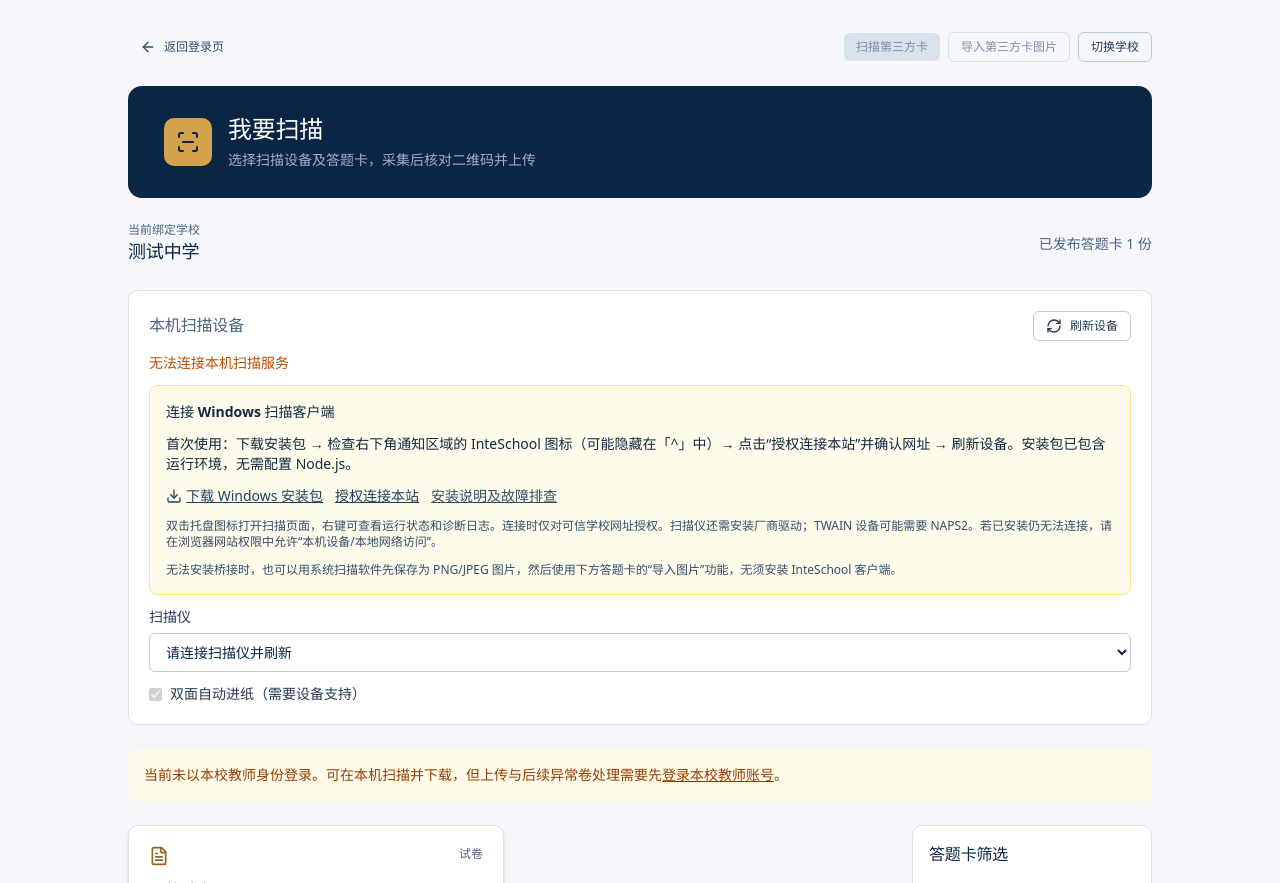
Test: ScannerPage › offers Windows installer and explicit site pairing only when the bridge is unavailable
What coordinates should you click on to do the following:
click the button "刷新设备"
I would click on:
 (1082, 326)
Its box is x1=1033 y1=311 x2=1131 y2=341.
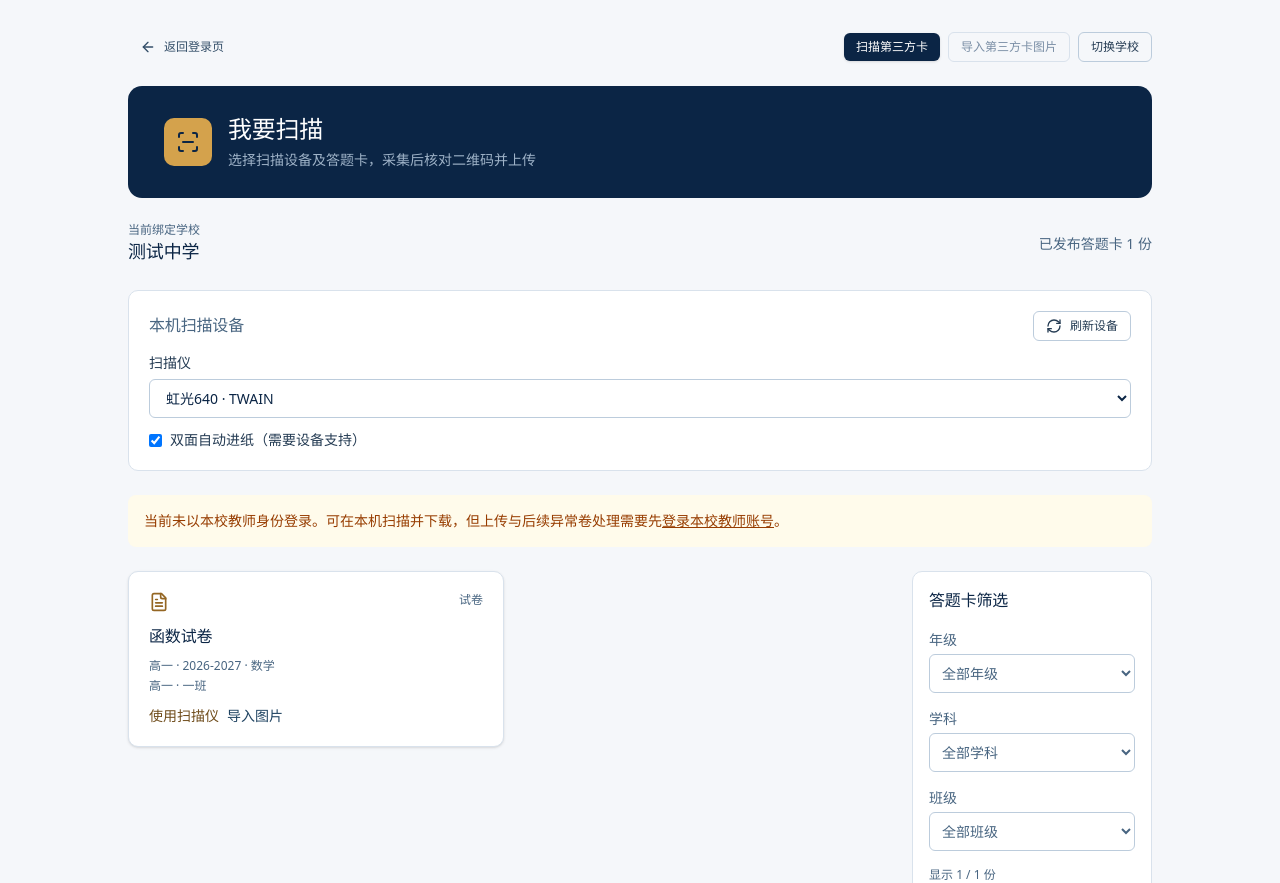
Expected: the link "下载 Windows 安装包" is gone
